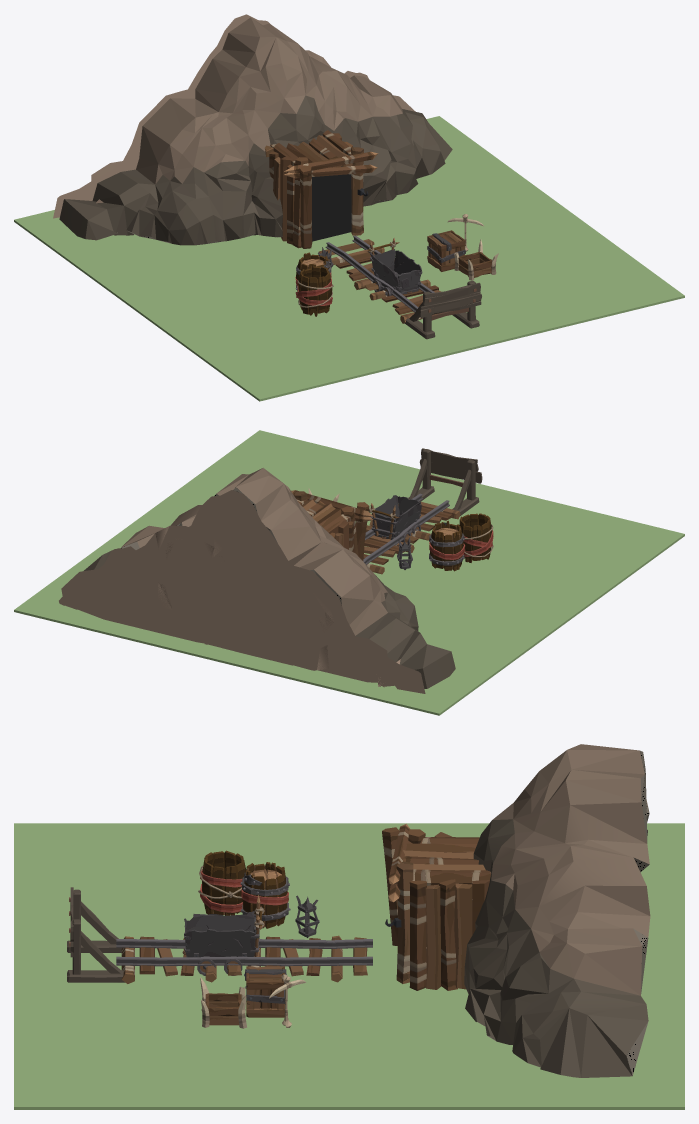
File: mine.glb
3 views of the same model, one above another, from view 1: azimuth 30°, elevation 25°; view 2: azimuth 150°, elevation 25°; view 3: azimuth 270°, elevation 25° (orthographic). The views are drawn at different scales.
Parts seen in each view (by area): view 1: Ground, Mountain_Backdrop, Mine_Entrance, Mountain_BackPanel, Track_End, Minecart, Track_0, Barrel_1, Track_1, Crate_0, Crate_1; view 2: Ground, Mountain_BackPanel, Mountain_Backdrop, Mine_Entrance, Track_End, Minecart, Barrel_0, Barrel_1, Track_1, Track_0; view 3: Ground, Mountain_Backdrop, Mine_Entrance, Minecart, Track_0, Track_1, Track_End, Barrel_1, Barrel_0, Crate_0, Crate_1, Lantern.
Boxes of the visible parts, bbox=[...] form: Ground: bbox=[14, 116, 684, 401]; Mountain_Backdrop: bbox=[59, 17, 452, 245]; Mine_Entrance: bbox=[265, 130, 378, 248]; Mountain_BackPanel: bbox=[53, 14, 415, 218]; Track_End: bbox=[404, 280, 481, 339]; Minecart: bbox=[364, 238, 422, 296]; Track_0: bbox=[319, 235, 384, 289]; Barrel_1: bbox=[295, 266, 333, 316]; Track_1: bbox=[364, 276, 442, 323]; Crate_0: bbox=[427, 230, 465, 271]; Crate_1: bbox=[454, 239, 498, 280]; Ground: bbox=[14, 430, 684, 715]; Mountain_BackPanel: bbox=[59, 490, 425, 693]; Mountain_Backdrop: bbox=[84, 468, 455, 688]; Mine_Entrance: bbox=[291, 490, 373, 560]; Track_End: bbox=[408, 448, 482, 515]; Minecart: bbox=[368, 495, 421, 543]; Barrel_0: bbox=[429, 520, 465, 571]; Barrel_1: bbox=[459, 513, 493, 562]; Track_1: bbox=[366, 493, 460, 543]; Track_0: bbox=[363, 529, 414, 574]; Ground: bbox=[14, 823, 684, 1109]; Mountain_Backdrop: bbox=[464, 744, 650, 1077]; Mine_Entrance: bbox=[382, 823, 491, 990]; Minecart: bbox=[182, 895, 264, 975]; Track_0: bbox=[242, 935, 372, 982]; Track_1: bbox=[116, 936, 243, 983]; Track_End: bbox=[67, 887, 124, 982]; Barrel_1: bbox=[198, 850, 245, 915]; Barrel_0: bbox=[240, 862, 290, 928]; Crate_0: bbox=[244, 966, 286, 1017]; Crate_1: bbox=[200, 977, 246, 1028]; Lantern: bbox=[295, 895, 319, 937].
Bounding box in the file's own units: 32 × 11.72 × 32.
5 materials, 2 textured.
